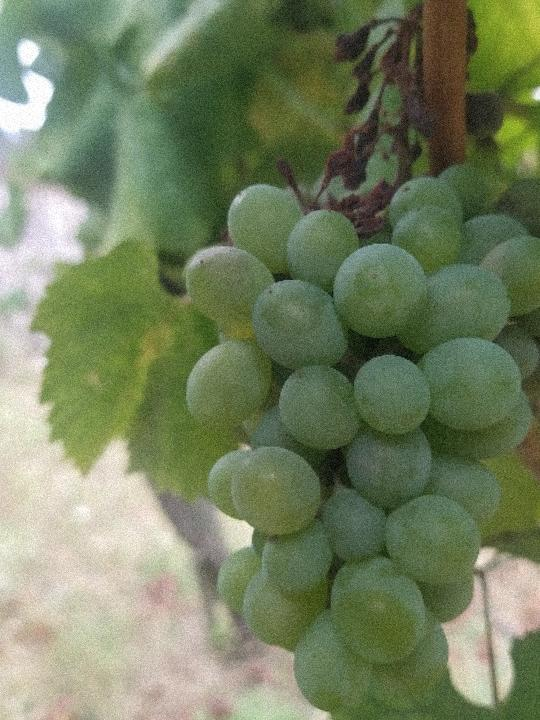grape: (177, 0, 540, 719)
